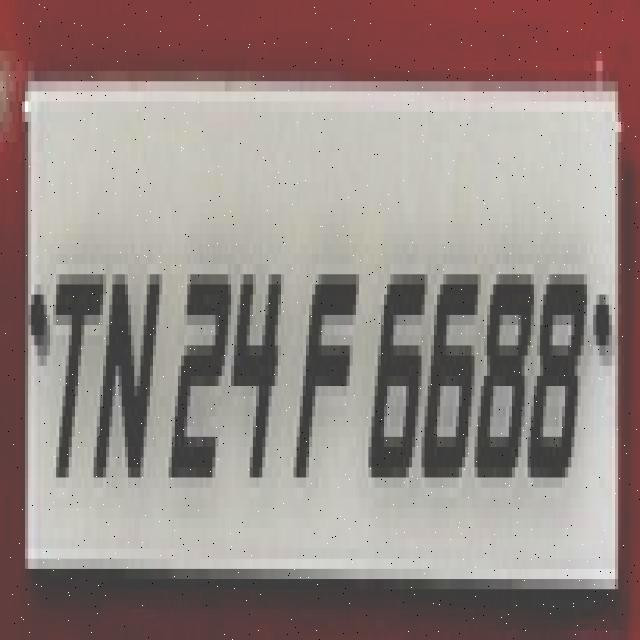licenseplate: (10, 32, 626, 622)
